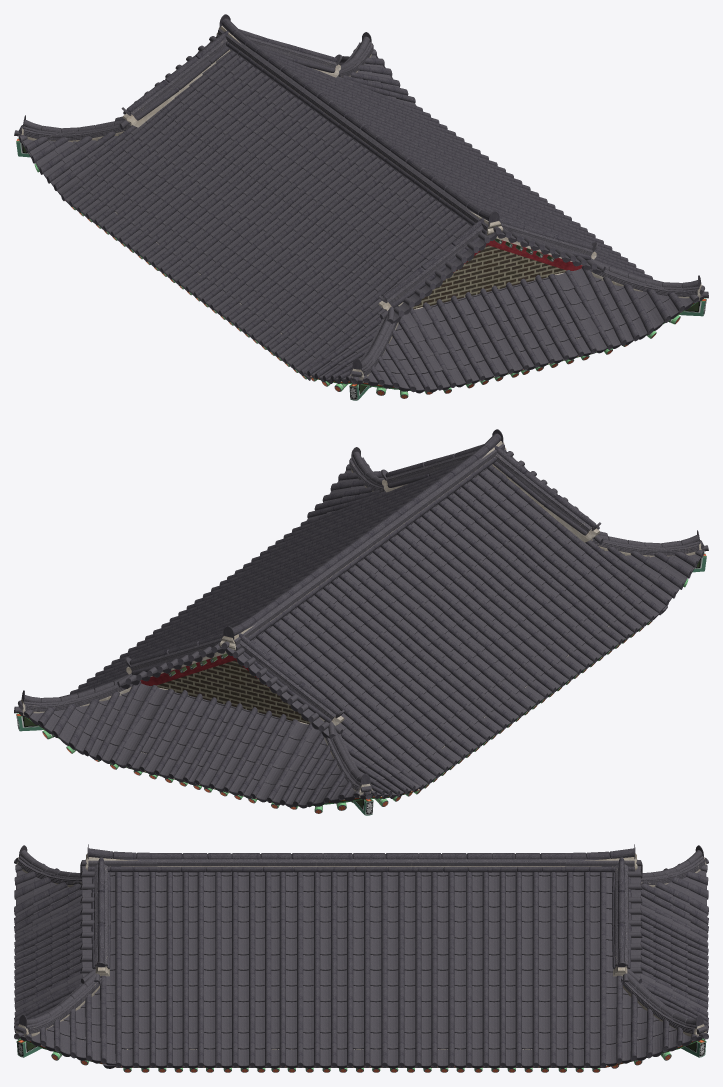
The model's file is SM_R_Bijangcheong.fbx.
3 renders of one model, top to bottom at view 1: azimuth 30°, elevation 25°; view 2: azimuth 150°, elevation 25°; view 3: azimuth 270°, elevation 25°, orthographic.
Parts seen in each view (by area): view 1: SM_R_Bijangcheong; view 2: SM_R_Bijangcheong; view 3: SM_R_Bijangcheong.
Boxes of the visible parts, <box> form: SM_R_Bijangcheong: <box>14,14,708,400</box>; SM_R_Bijangcheong: <box>14,429,708,815</box>; SM_R_Bijangcheong: <box>14,844,708,1072</box>.
Size of the model in its own units: 1017 by 1674 by 412.
8 materials, 8 textured.
